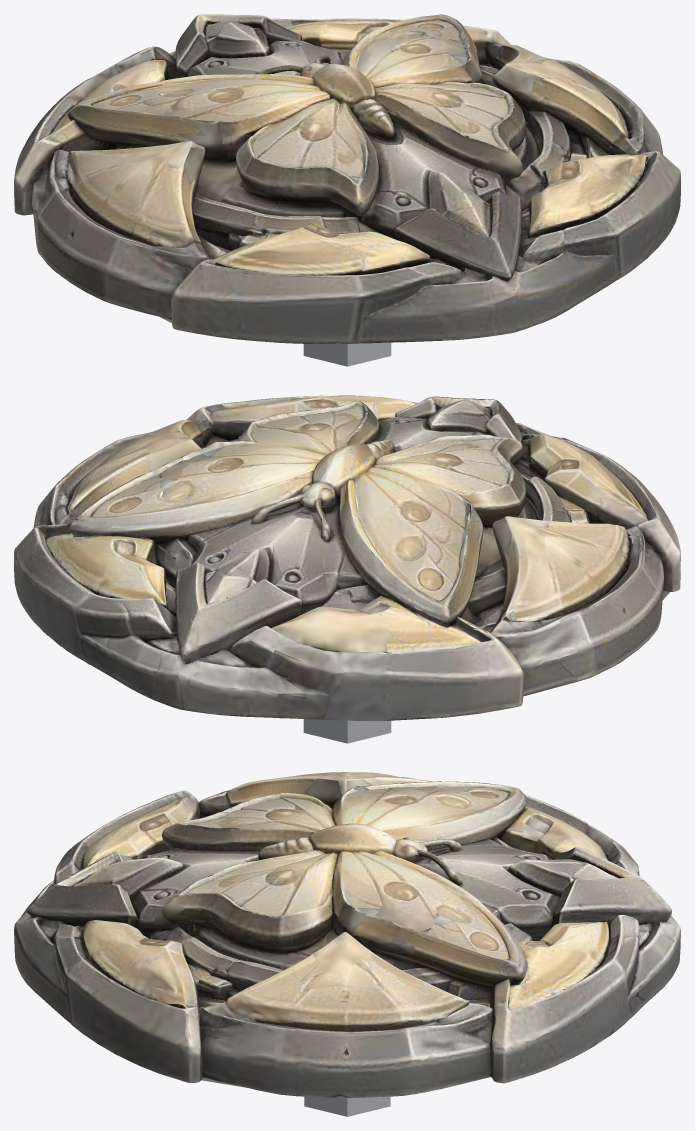
The model's file is moth.glb.
The picture shows the model from 3 angles, top to bottom: view 1: azimuth 30°, elevation 25°; view 2: azimuth 150°, elevation 25°; view 3: azimuth 270°, elevation 25°; orthographic projection.
Parts seen in each view (by area): view 1: mesh_node; view 2: mesh_node; view 3: mesh_node.
Part boxes in pixels (x1,y1,x2,y2): mesh_node: (14, 14, 680, 366); mesh_node: (14, 395, 680, 743); mesh_node: (14, 772, 680, 1116).
Size of the model in its own units: 19.45 by 6.51 by 20.
Materials: 2 (1 with a texture image).
